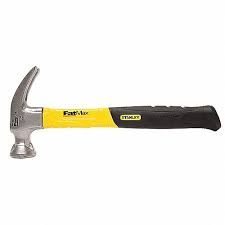martillu: (7, 65, 222, 160)
